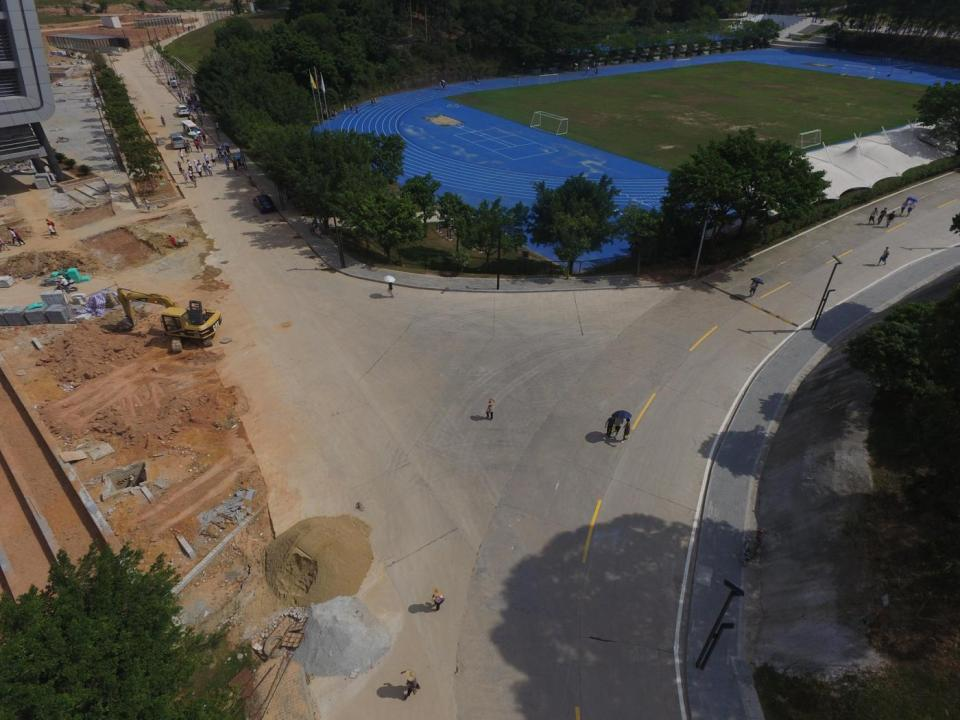car: (252, 194, 277, 214), (181, 119, 200, 140), (174, 104, 191, 117)
van: (168, 132, 185, 150)
